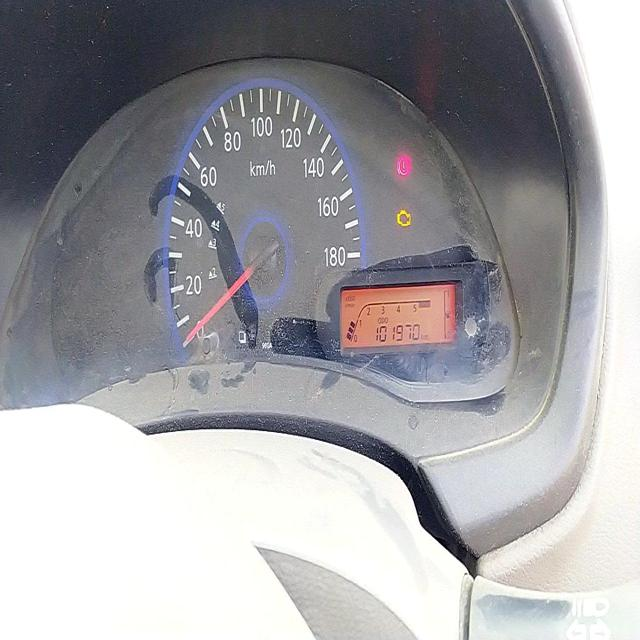odometer: (374, 318, 421, 347)
